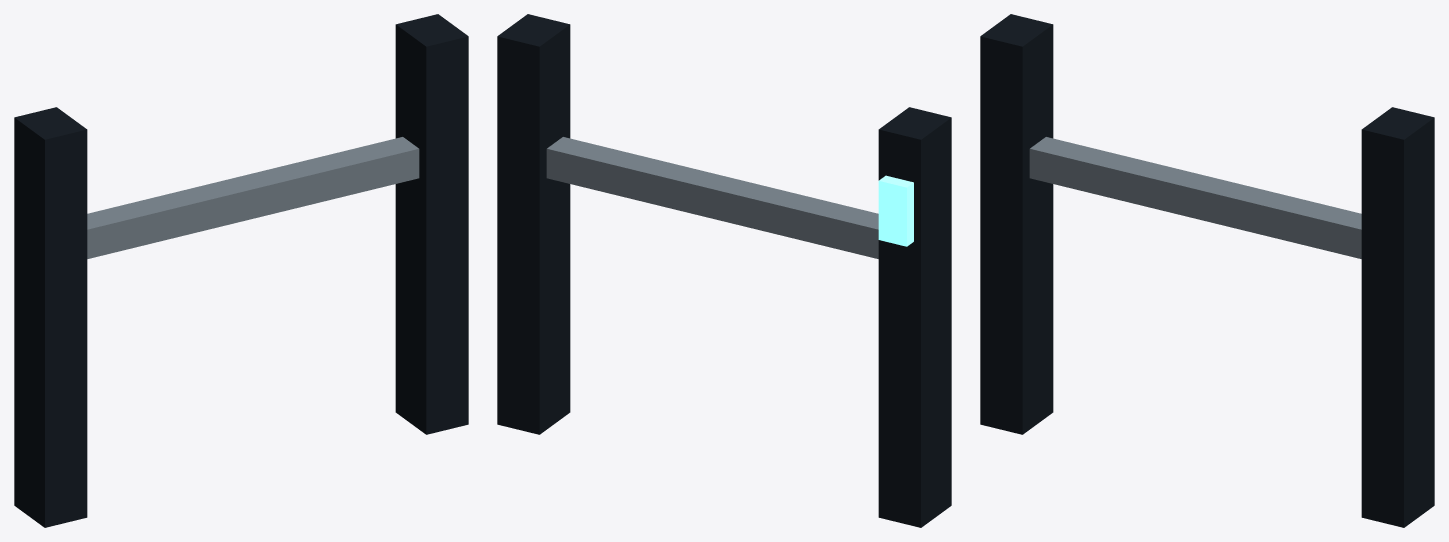
File: np_z03_accueil_portillon.glb
3 views of the same model, side by side, from view 1: azimuth 30°, elevation 25°; view 2: azimuth 150°, elevation 25°; view 3: azimuth 330°, elevation 25° (orthographic).
Parts seen in each view (by area): view 1: MontantGauche, MontantDroit, Bras; view 2: MontantDroit, MontantGauche, Bras, Voyant; view 3: MontantDroit, MontantGauche, Bras.
Part boxes in pixels (x1,y1,x2,y2): MontantGauche: (14, 107, 87, 527); MontantDroit: (395, 14, 468, 434); Bras: (87, 137, 419, 258); MontantDroit: (497, 14, 570, 434); MontantGauche: (878, 107, 951, 527); Bras: (546, 137, 878, 258); Voyant: (878, 175, 913, 246); MontantDroit: (1361, 107, 1434, 527); MontantGauche: (980, 14, 1053, 434); Bras: (1029, 137, 1361, 258).
Size of the model in its own units: 1.2 by 1.05 by 0.185.
